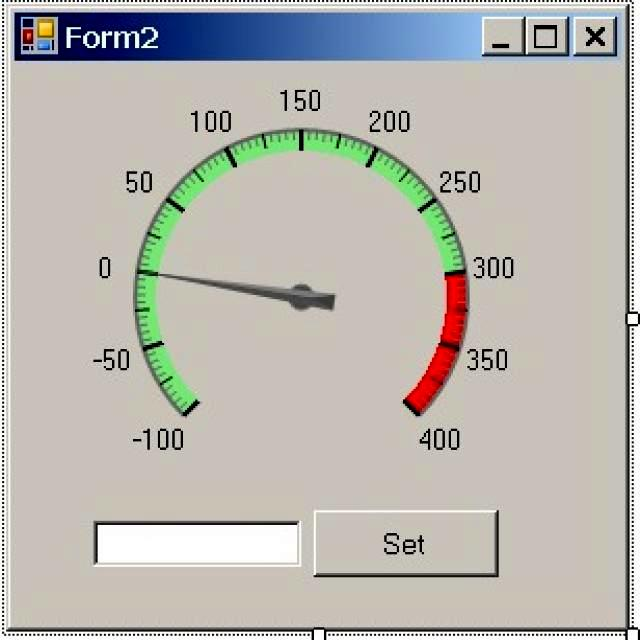Needle_Tip: (106, 247, 238, 304)
Needle_base: (276, 268, 346, 333)
max_value: (419, 411, 472, 472)
min_value: (119, 395, 206, 472)
